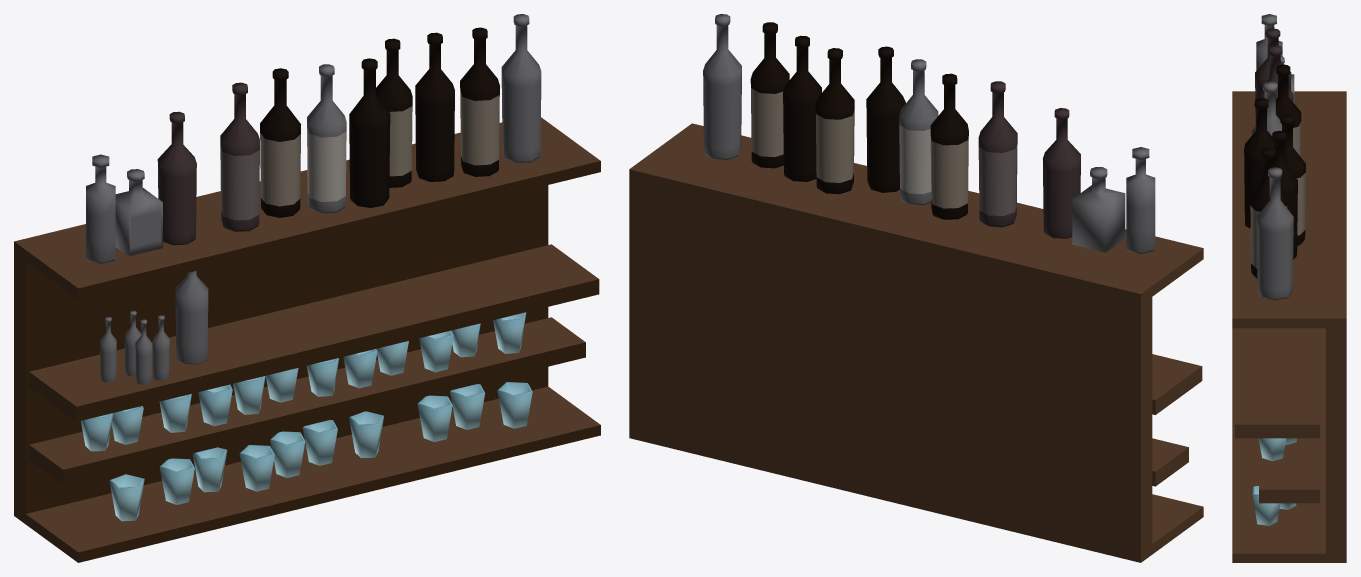
File: Furnit Bar 4 2M.glb
3 views of the same model, side by side, from view 1: azimuth 30°, elevation 25°; view 2: azimuth 150°, elevation 25°; view 3: azimuth 270°, elevation 25° (orthographic). The views are drawn at different scales.
Visible parts, largest first — view 1: Furnit Bar 4 2M; view 2: Furnit Bar 4 2M; view 3: Furnit Bar 4 2M.
Part boxes in pixels (<box>): Furnit Bar 4 2M: <box>14,14,600,562</box>; Furnit Bar 4 2M: <box>629,14,1203,562</box>; Furnit Bar 4 2M: <box>1232,14,1346,562</box>.
Size of what is drawn, in the model's own units: 1.96 by 1.49 by 0.4175.
1 material, 1 textured.
